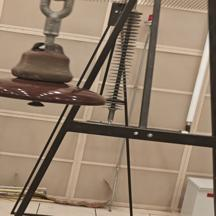insulator: (0, 35, 114, 118)
